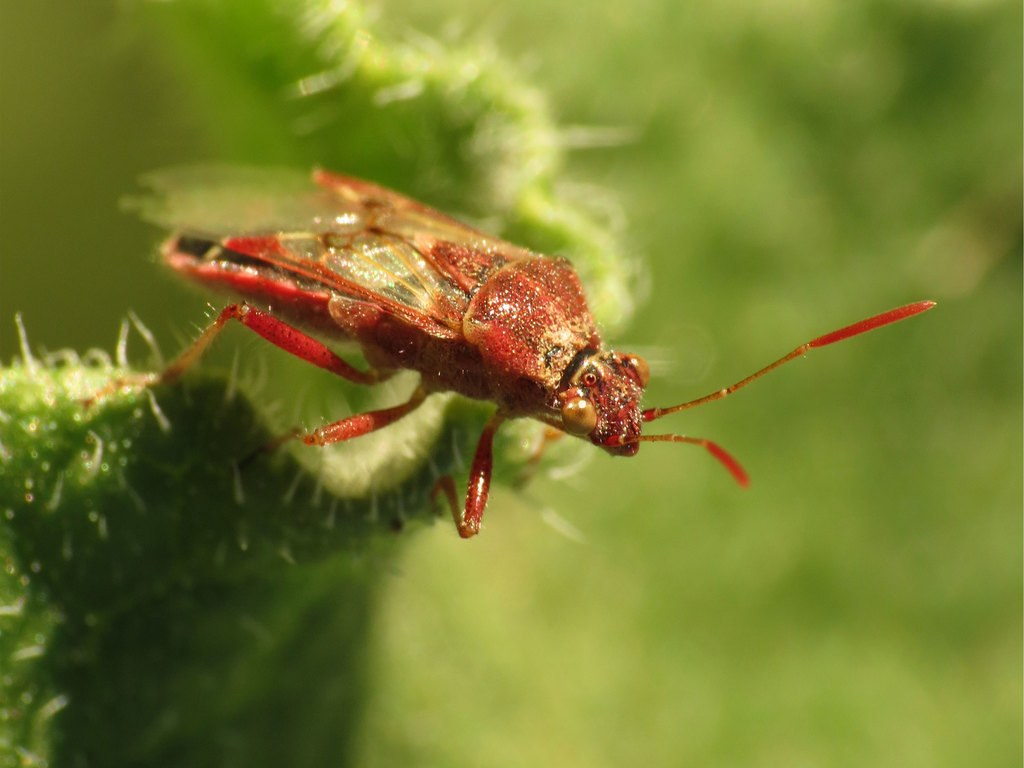insect: (65, 150, 932, 537)
